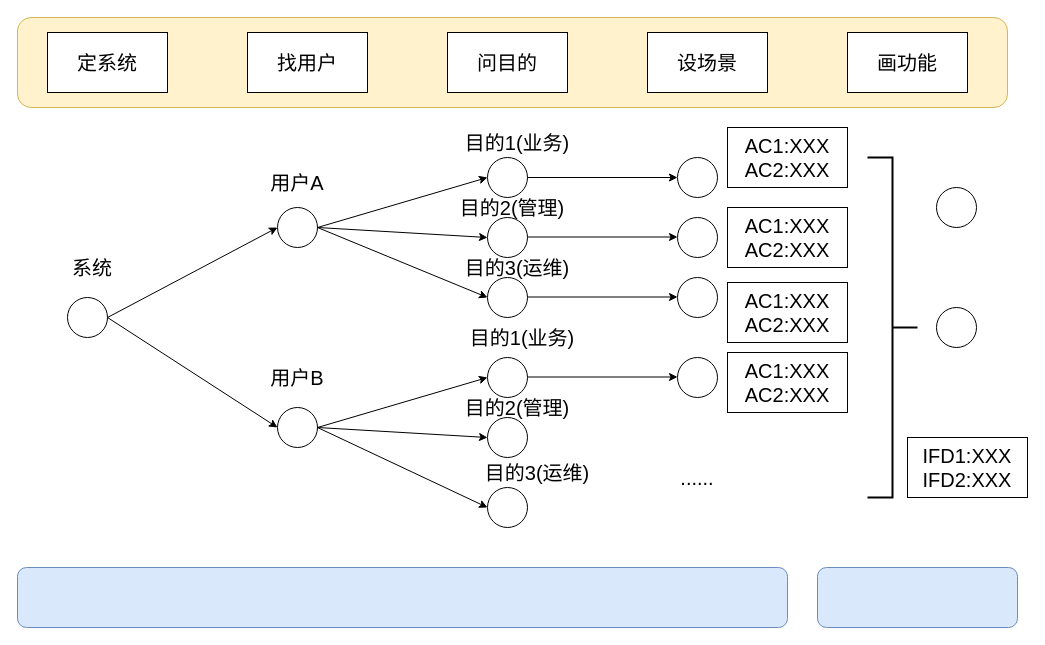
Some shapes in this 1045 by 645 pixel diagram are drawn without their labels. Here are the shapes that lost their labels. From the top down, the box of each, then its label:
(16, 566, 788, 628): 问题空间
(816, 566, 1018, 628): 解空间
